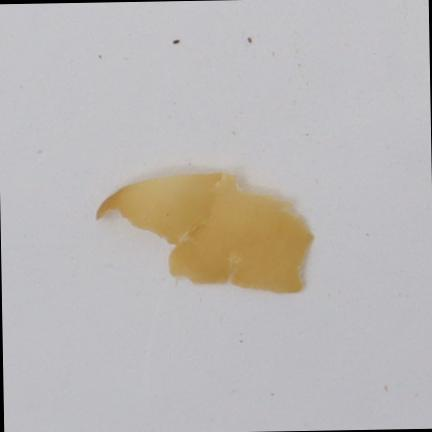parchment: (96, 173, 312, 292)
